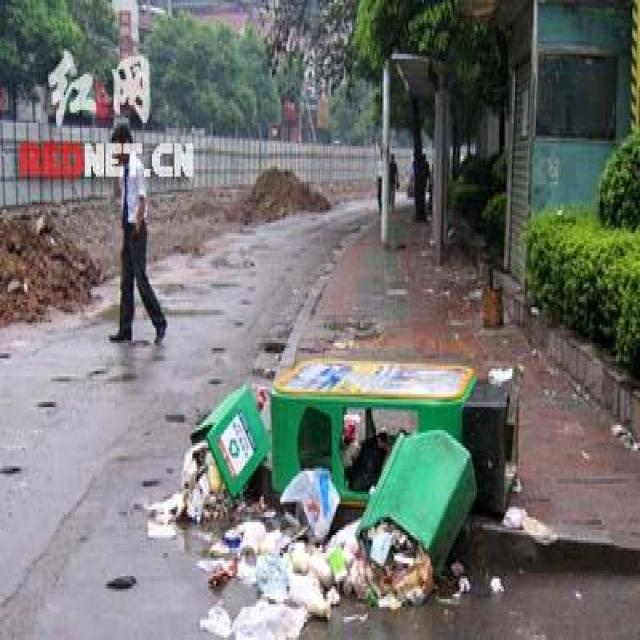garbage: (198, 509, 434, 640), (168, 432, 219, 524)
